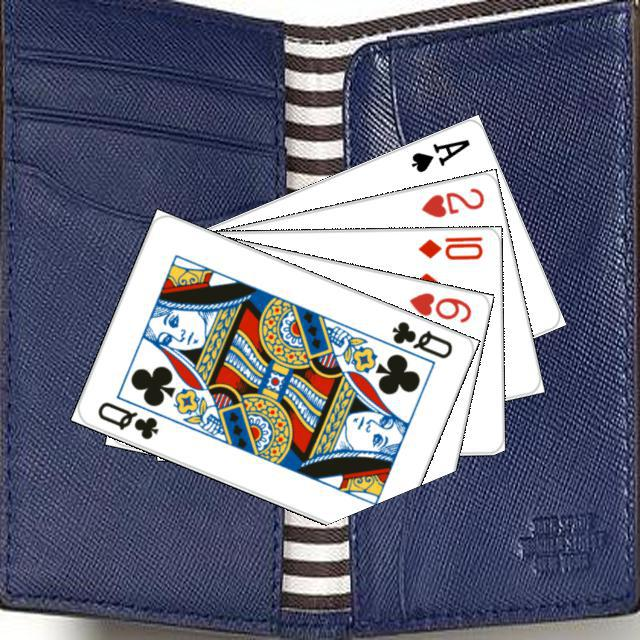10d: (413, 232, 484, 261)
2h: (416, 182, 486, 220)
6h: (404, 287, 473, 325)
As: (406, 134, 472, 175)
Qc: (375, 316, 455, 369), (92, 396, 161, 442)
